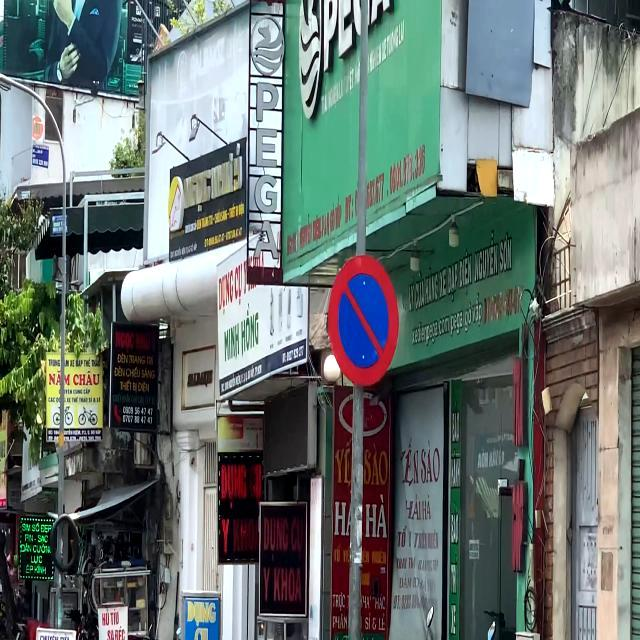Cam do xe: (328, 254, 400, 387)
